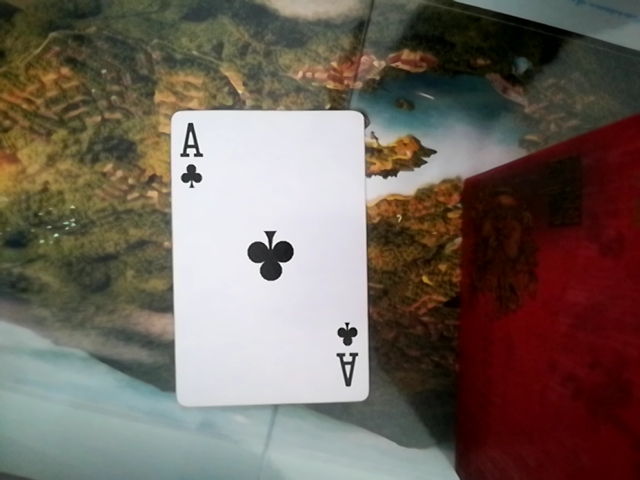mh a: (160, 106, 367, 405)
